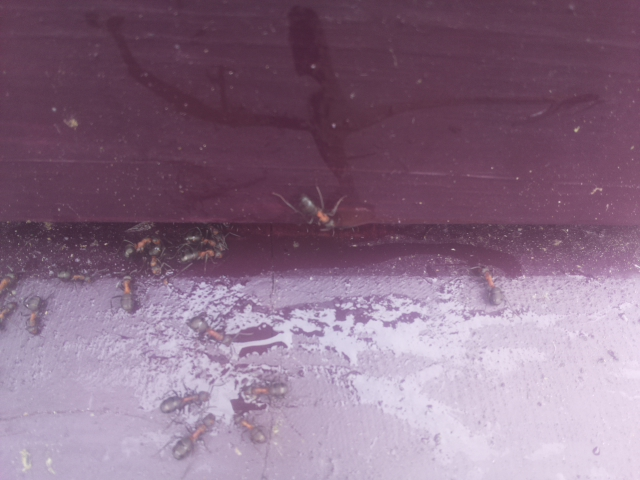ant: (165, 398, 225, 472), (293, 179, 344, 241), (175, 227, 228, 267), (151, 387, 217, 419), (228, 406, 273, 452), (473, 259, 509, 314), (179, 314, 237, 348), (129, 232, 168, 277), (242, 378, 298, 405), (21, 288, 48, 341), (115, 270, 140, 315), (0, 297, 15, 333)
